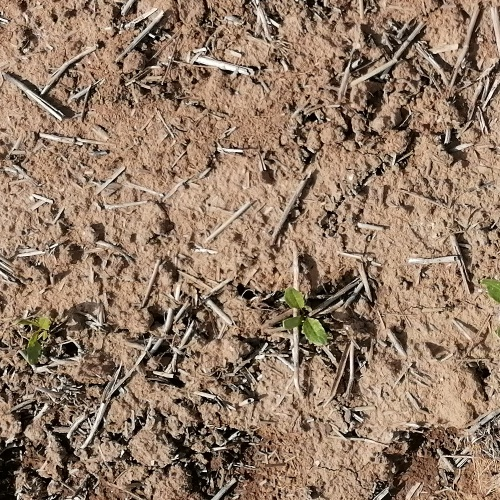beet: (284, 285, 327, 347), (16, 316, 51, 360), (482, 280, 500, 302)
